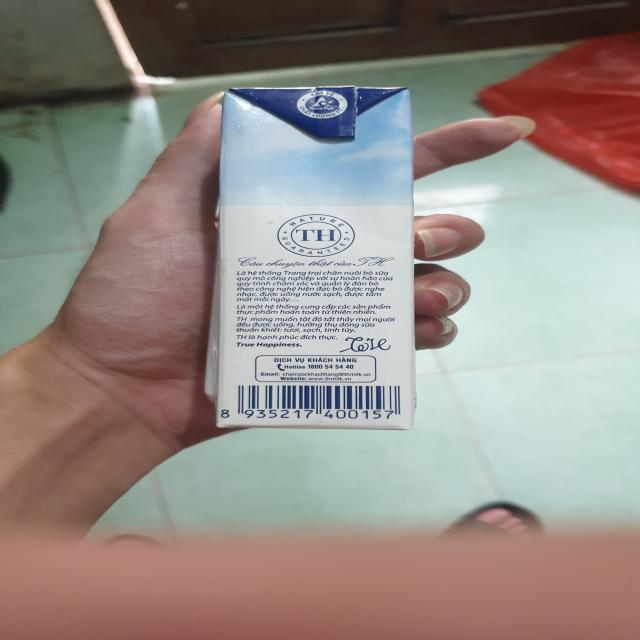TH: (217, 89, 413, 431)
